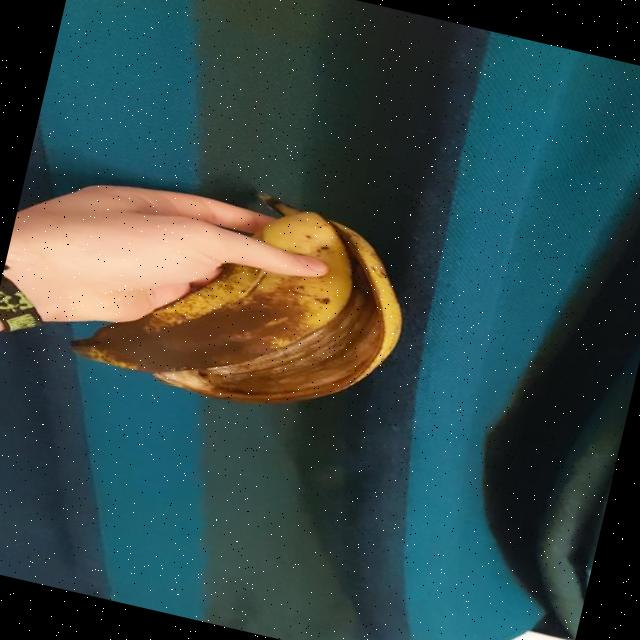banana-peel: (62, 154, 424, 436)
